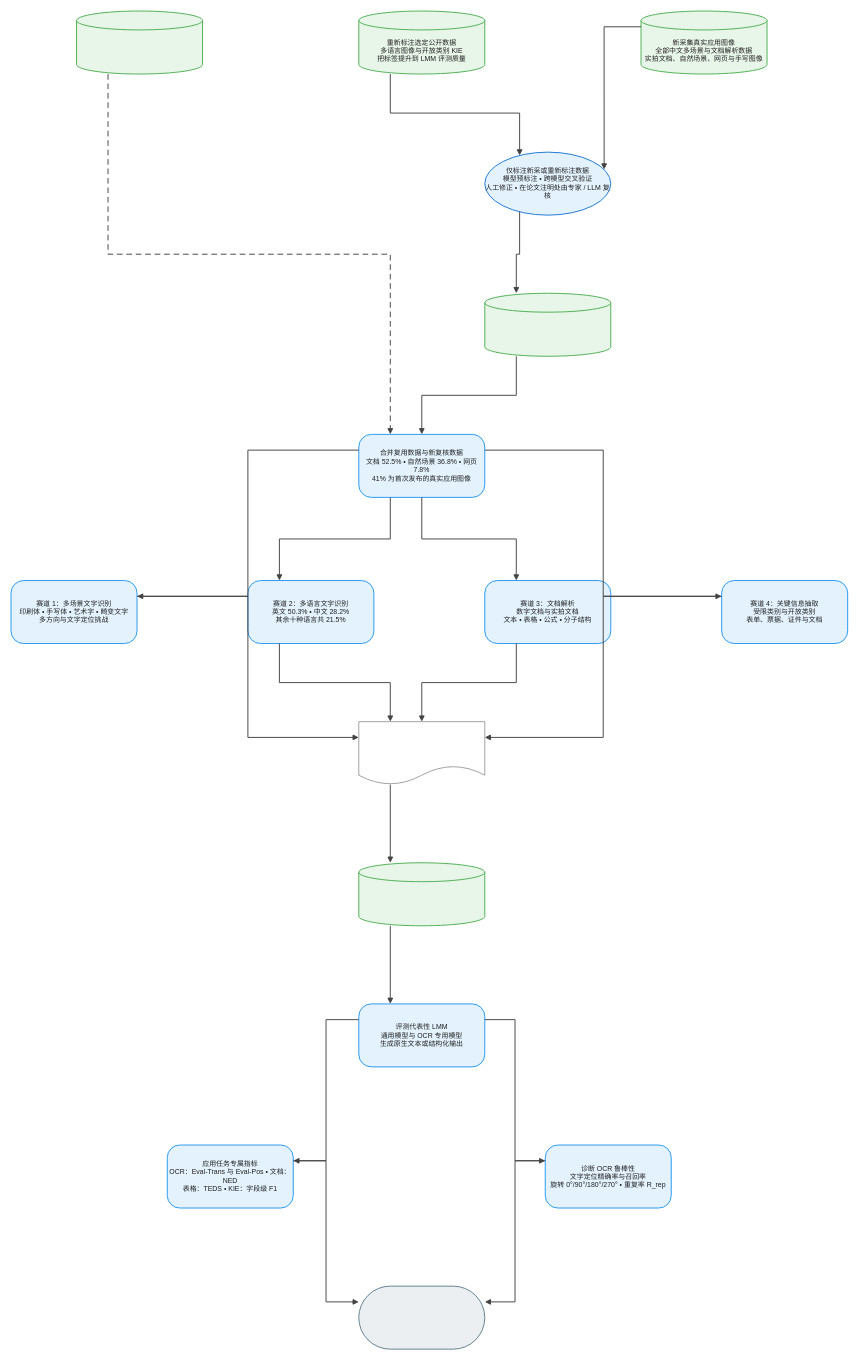
Image size: 859x1361. Some labels were removed from this diagram. Each missing label, with the centre of its shape:
发布 CC-OCR 测试集 7,058 张完整标注图像 四条赛道 • 39 个子集: point 421,894
复用合格的公开标注 多场景 OCR 基准 受限类别 KIE 数据集: point 139,42
形成已复核的新采 / 重新标注数据池 文本 • 文档 • 表格 • 信息抽取 任务专属标签可用于基准组装: point 547,324
按赛道和子集报告结果 比较识别、解析、抽取与鲁棒性 揭示真实 OCR 优势与失败模式: point 421,1317
规范化要求的输出格式 纯文本 60.2% • JSON 28.4% • LaTeX 5.7% HTML 4.3% • SMILES 1.4% • 词级位置: point 421,753
